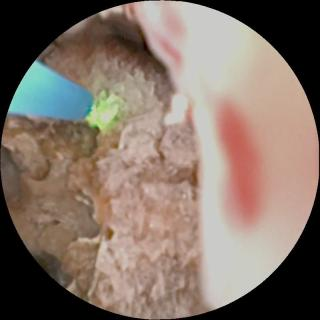fiber: (11, 64, 93, 119)
laser: (91, 100, 116, 126)
stone: (3, 21, 197, 315)
tissue: (111, 8, 313, 304)
